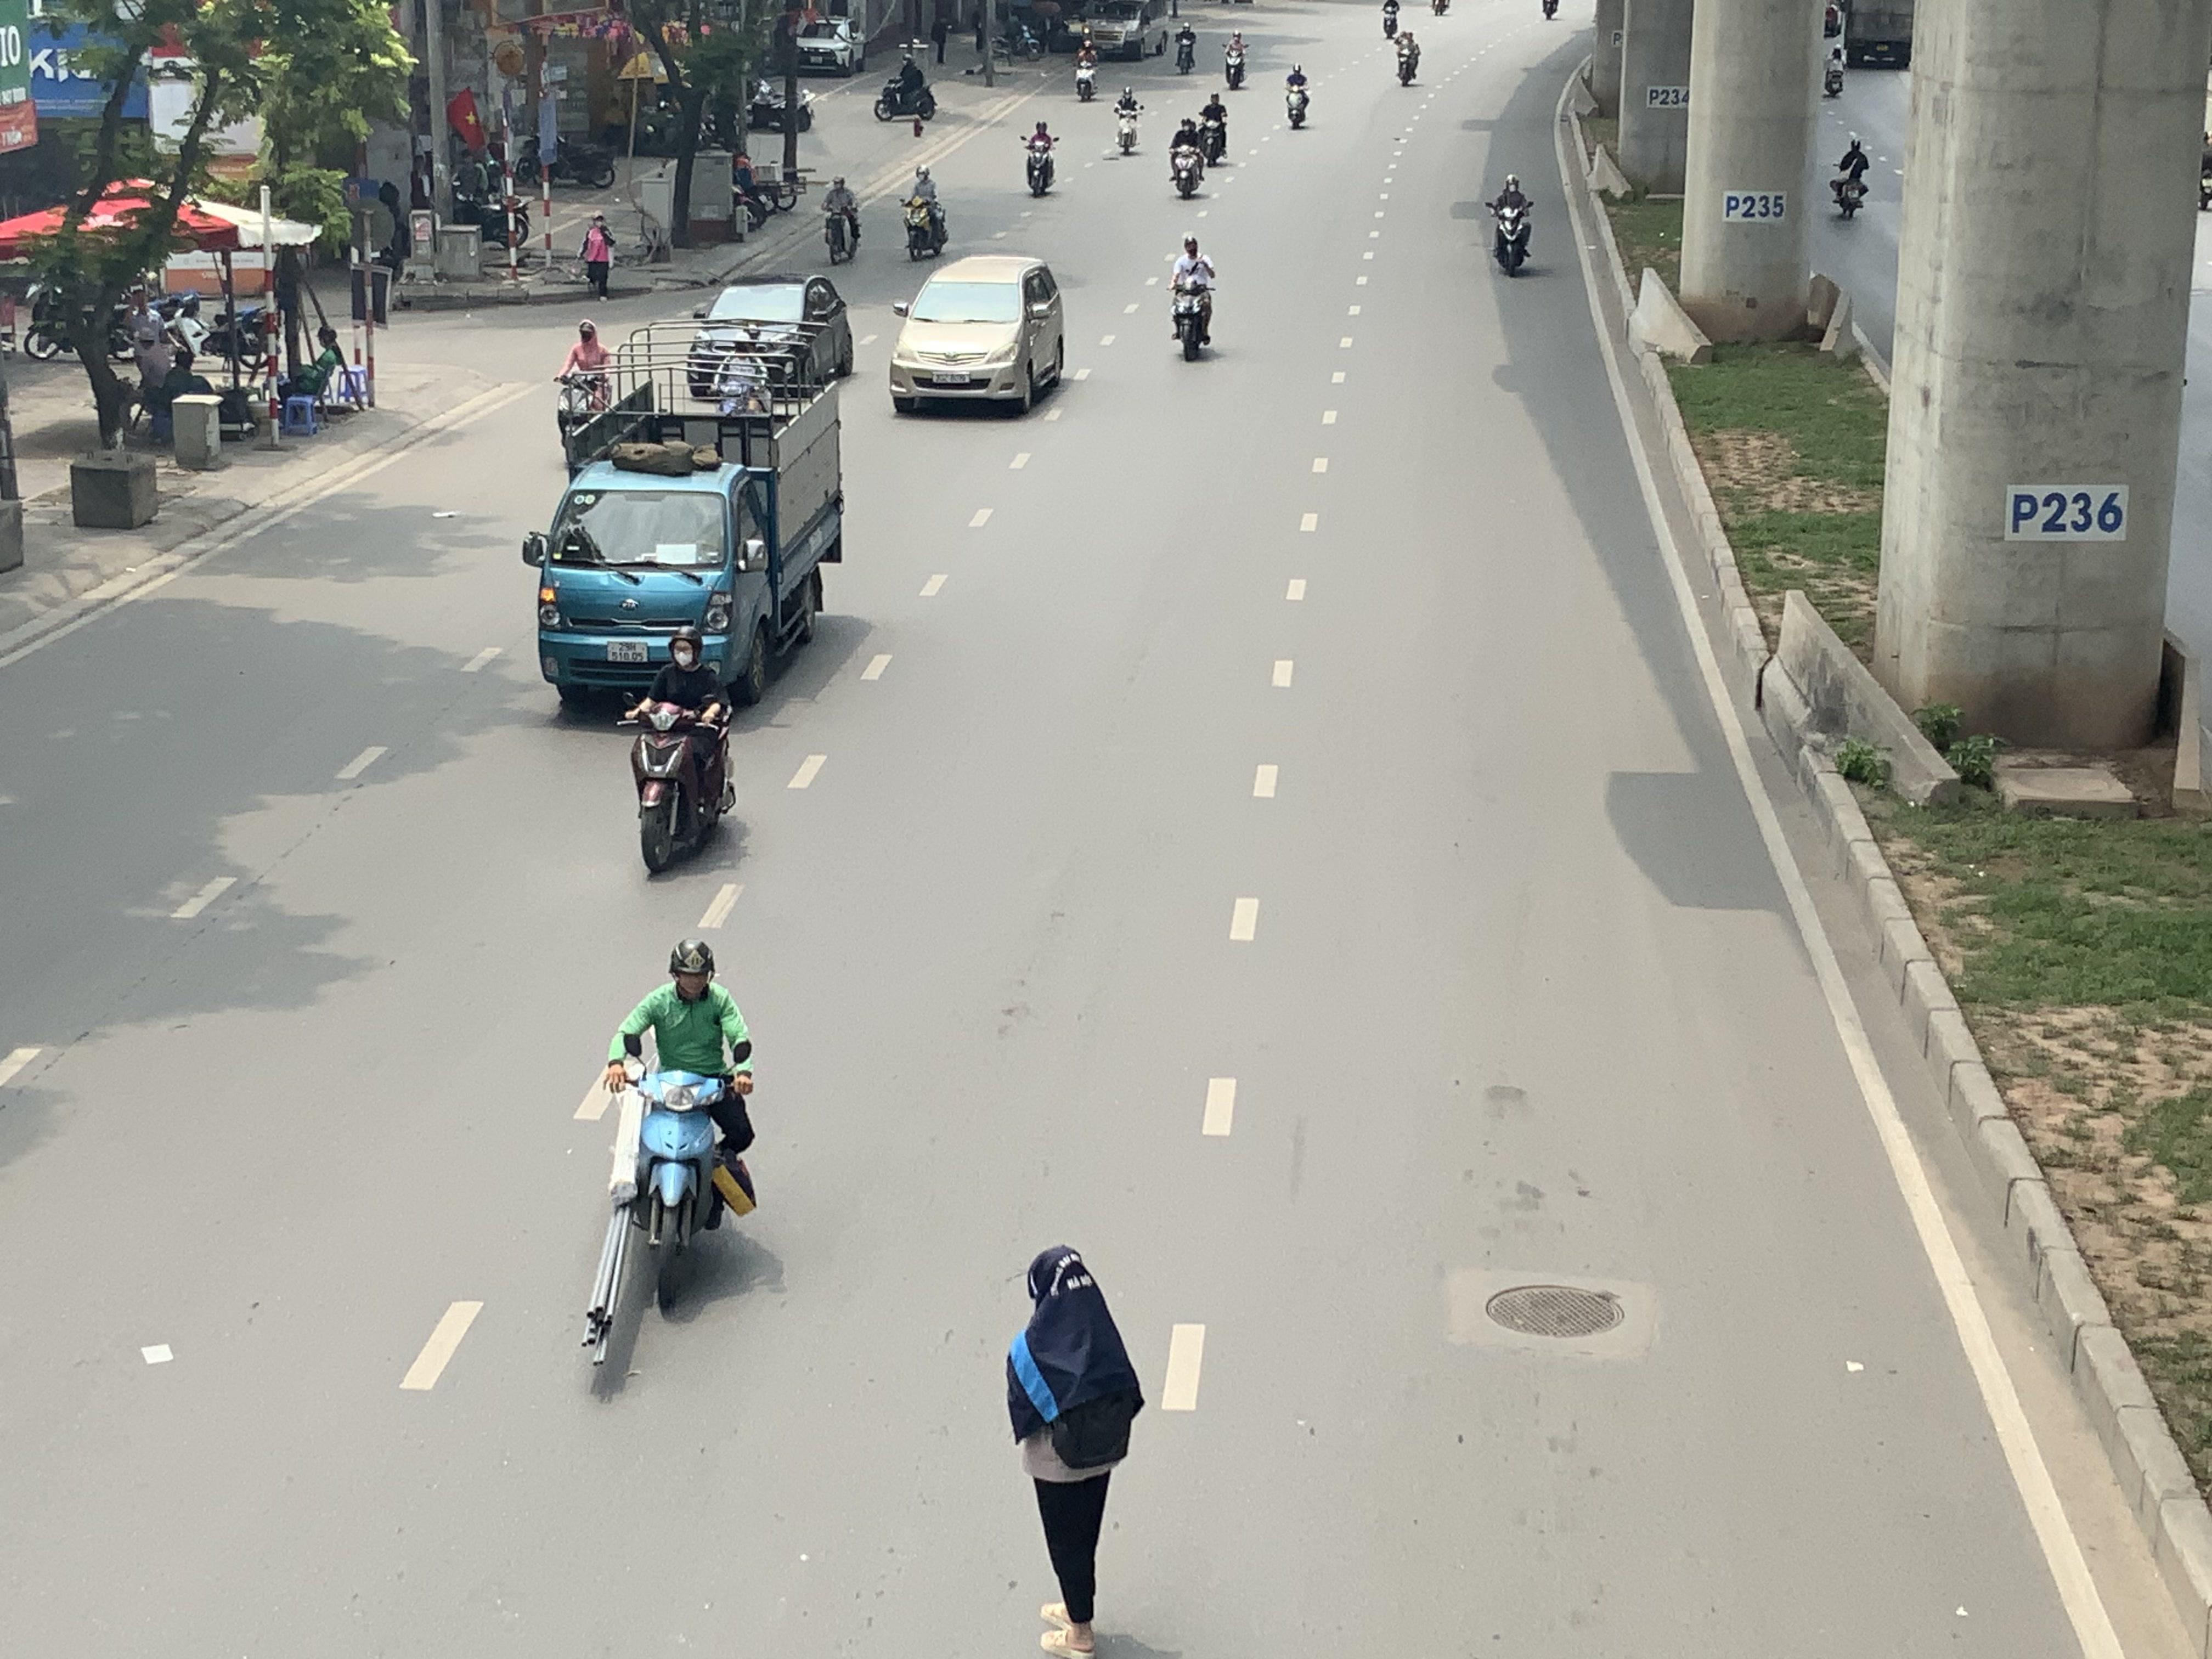BSD: (932, 371, 972, 383)
BSV: (606, 641, 648, 662)
car: (888, 256, 1068, 418), (685, 275, 855, 397), (792, 17, 864, 75)
motorbike: (583, 936, 758, 1398), (624, 629, 740, 878), (554, 319, 615, 472), (1169, 234, 1216, 362), (900, 162, 949, 261), (1487, 173, 1534, 275), (873, 51, 937, 122), (820, 173, 864, 267), (1829, 132, 1872, 220), (1167, 112, 1207, 199), (580, 213, 617, 300), (1021, 115, 1059, 197), (1197, 89, 1231, 166), (1111, 78, 1144, 155), (1071, 35, 1101, 103), (1284, 59, 1312, 129), (1223, 24, 1249, 91), (1393, 26, 1421, 85), (1172, 17, 1198, 75), (1378, 0, 1400, 40)
truck: (521, 387, 846, 711)
